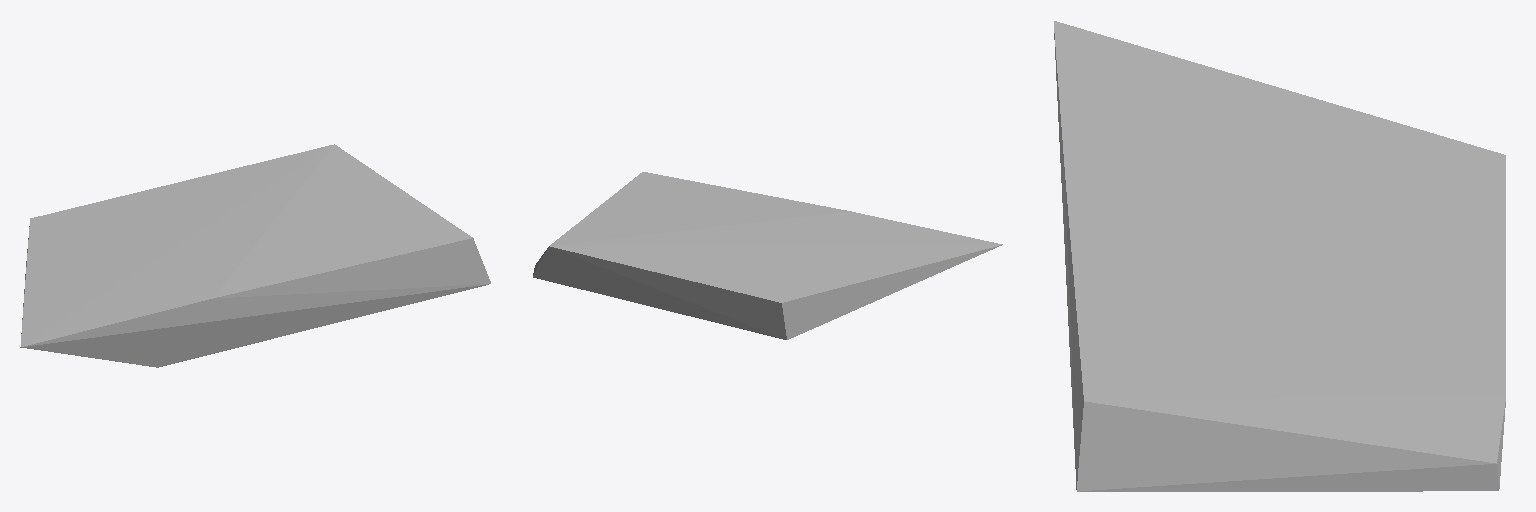
URDF robot description (root):
<?xml version='1.0' encoding='utf-8'?>
<robot name="root">
  <link name="link_001">
    <visual>
      <origin xyz="0 0 0" rpy="0 0 0" />
      <geometry>
        <mesh filename="cef06a6ff464693f829447970f2cb3b24c765a72d23c8b851b7ca03013e0eff4_scale_001.stl" scale="1.0000E+00 1.0000E+00 1.0000E+00" />
      </geometry>
      <material name="">
        <color rgba="7.50E-01 7.50E-01 7.50E-01 1" />
      </material>
    </visual>
    <collision>
      <origin xyz="0 0 0" rpy="0 0 0" />
      <geometry>
        <mesh filename="cef06a6ff464693f829447970f2cb3b24c765a72d23c8b851b7ca03013e0eff4_scale_001.stl" scale="1.0000E+00 1.0000E+00 1.0000E+00" />
      </geometry>
    </collision>
  </link>
</robot>

--- Facts derived from the render (not from the file) ---
3 views of the same robot in one strip: view 1: azimuth 30°, elevation 25°; view 2: azimuth 150°, elevation 25°; view 3: azimuth 270°, elevation 25° (orthographic).
Robot: root — 1 links, 0 joints (none); root link link_001; default pose: every joint at zero.
Links seen in each view (by area): view 1: link_001; view 2: link_001; view 3: link_001.
Boxes of the visible links, x1=… form: link_001: x1=20, y1=144, x2=490, y2=367; link_001: x1=533, y1=172, x2=1002, y2=339; link_001: x1=1054, y1=21, x2=1505, y2=491.
Size in the robot's own frame: 0.1182 by 0.0601 by 0.014 metres.
1 mesh visuals loaded from 1 distinct referenced files (1 binary STL).
